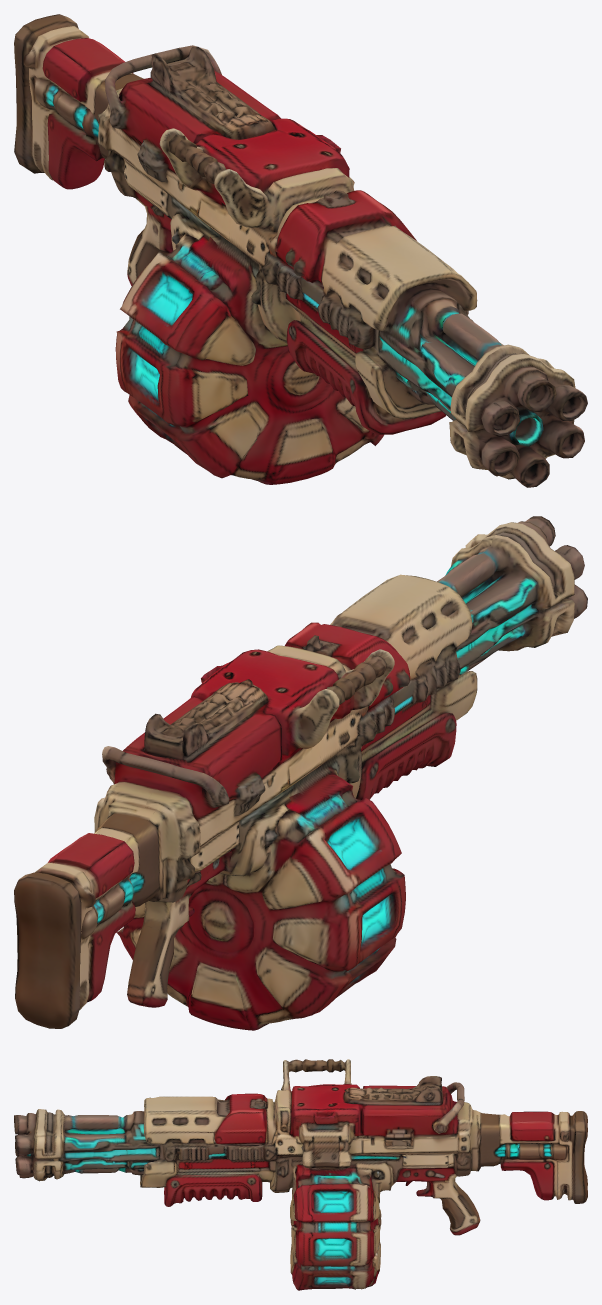
The model's file is bio_lmg.fbx.
3 views of the same model, one above another, from view 1: azimuth 30°, elevation 25°; view 2: azimuth 150°, elevation 25°; view 3: azimuth 270°, elevation 25° (orthographic). The views are drawn at different scales.
Parts seen in each view (by area): view 1: model_LOD0; view 2: model_LOD0; view 3: model_LOD0.
Part boxes in pixels (bbox=[...]): model_LOD0: bbox=[14, 14, 587, 487]; model_LOD0: bbox=[14, 516, 587, 1030]; model_LOD0: bbox=[14, 1059, 587, 1290].
Size of what is drawn, in the model's own units: 54.44 by 72.93 by 190.
